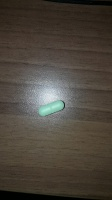Aferin: (37, 100, 66, 118)
